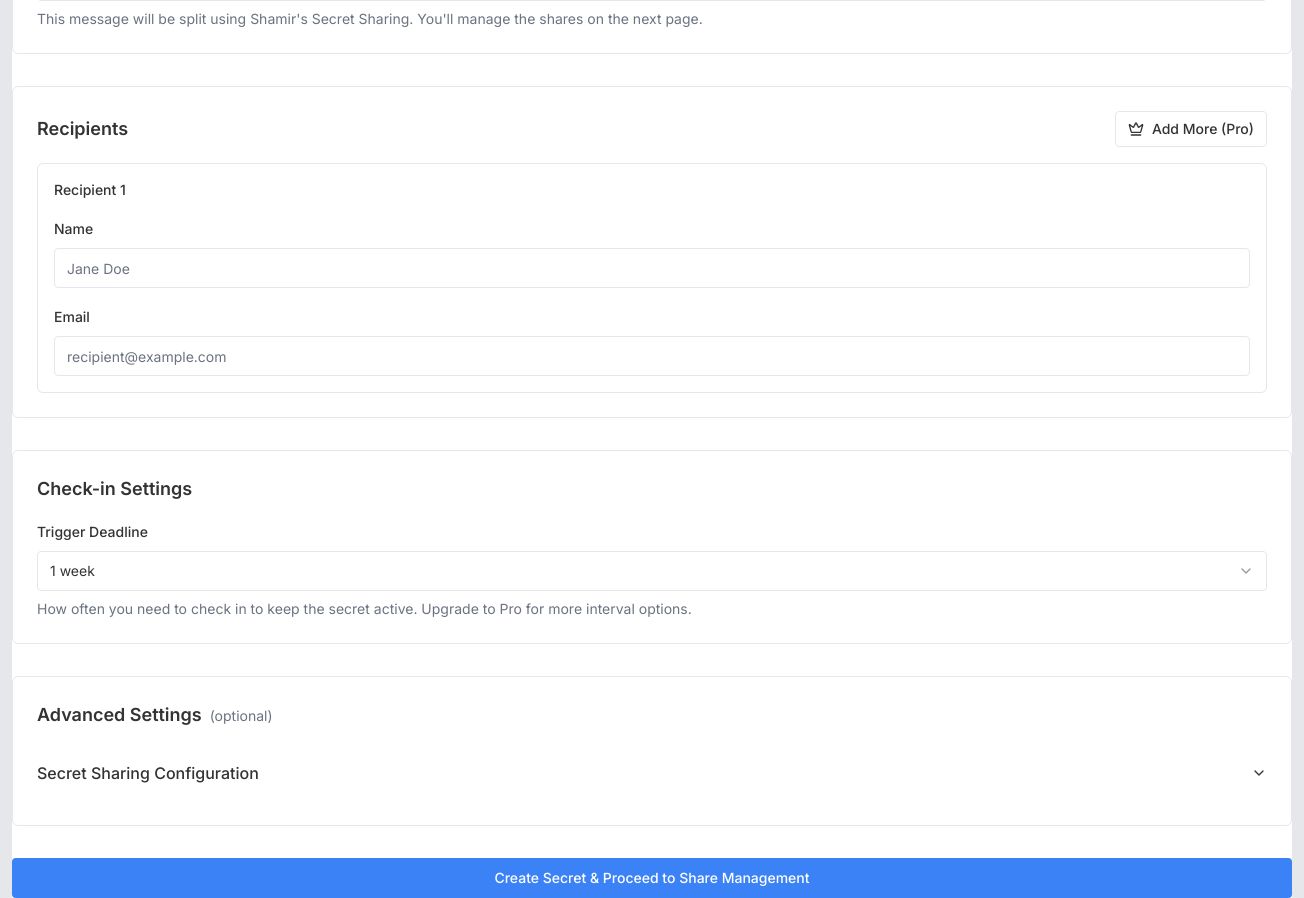
Scenario: NewSecretForm › should have valid check-in intervals in dropdown
(page scrolled)
Click the dropdown named "trigger deadline" at point(72, 570), box [37,551,1267,591]
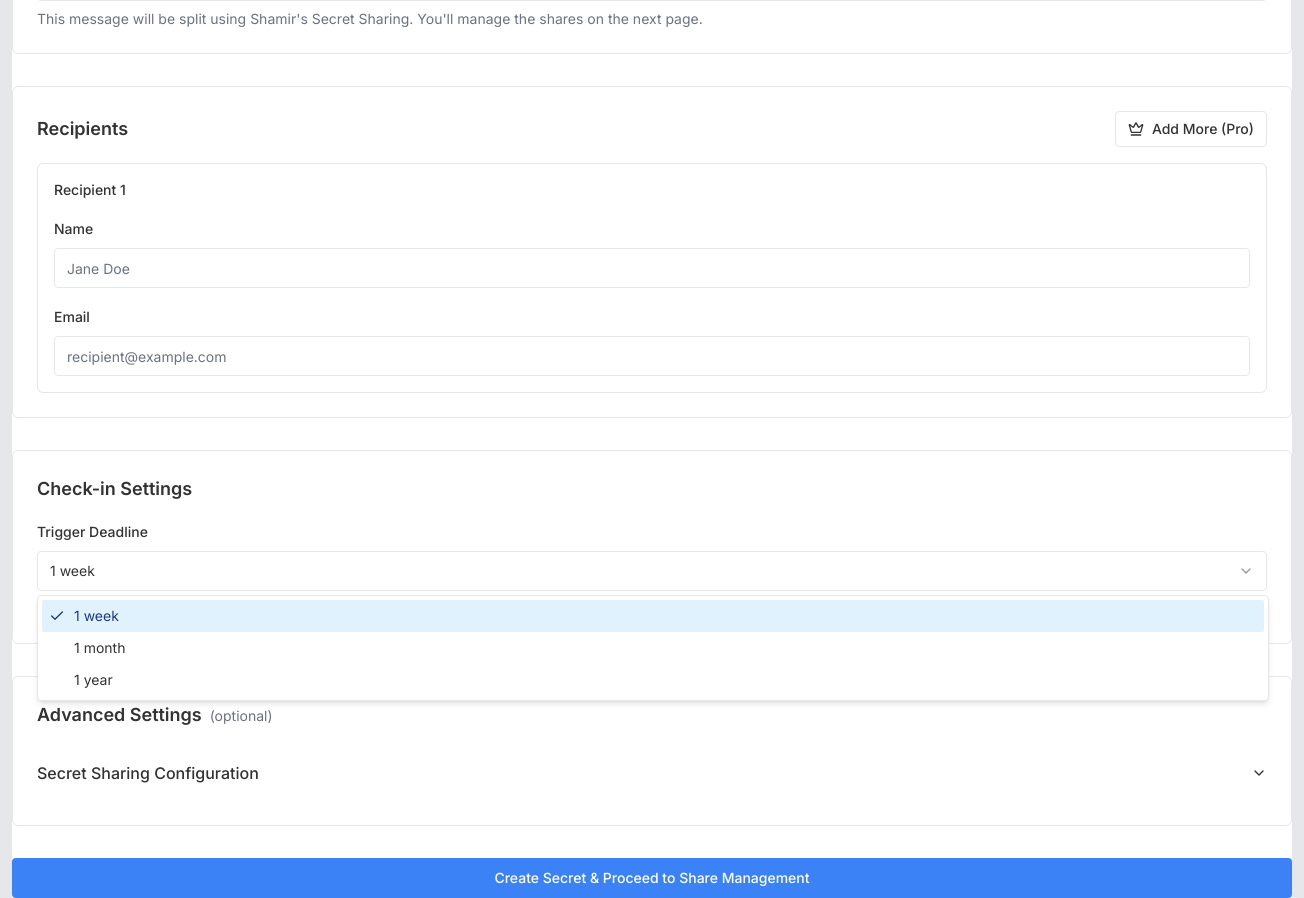
Expected: the option "1 week" is shown, [42,600,1264,632]
Expected: the option "1 month" is shown, [74,639,125,656]
Expected: the option "1 year" is shown, [74,671,113,688]
